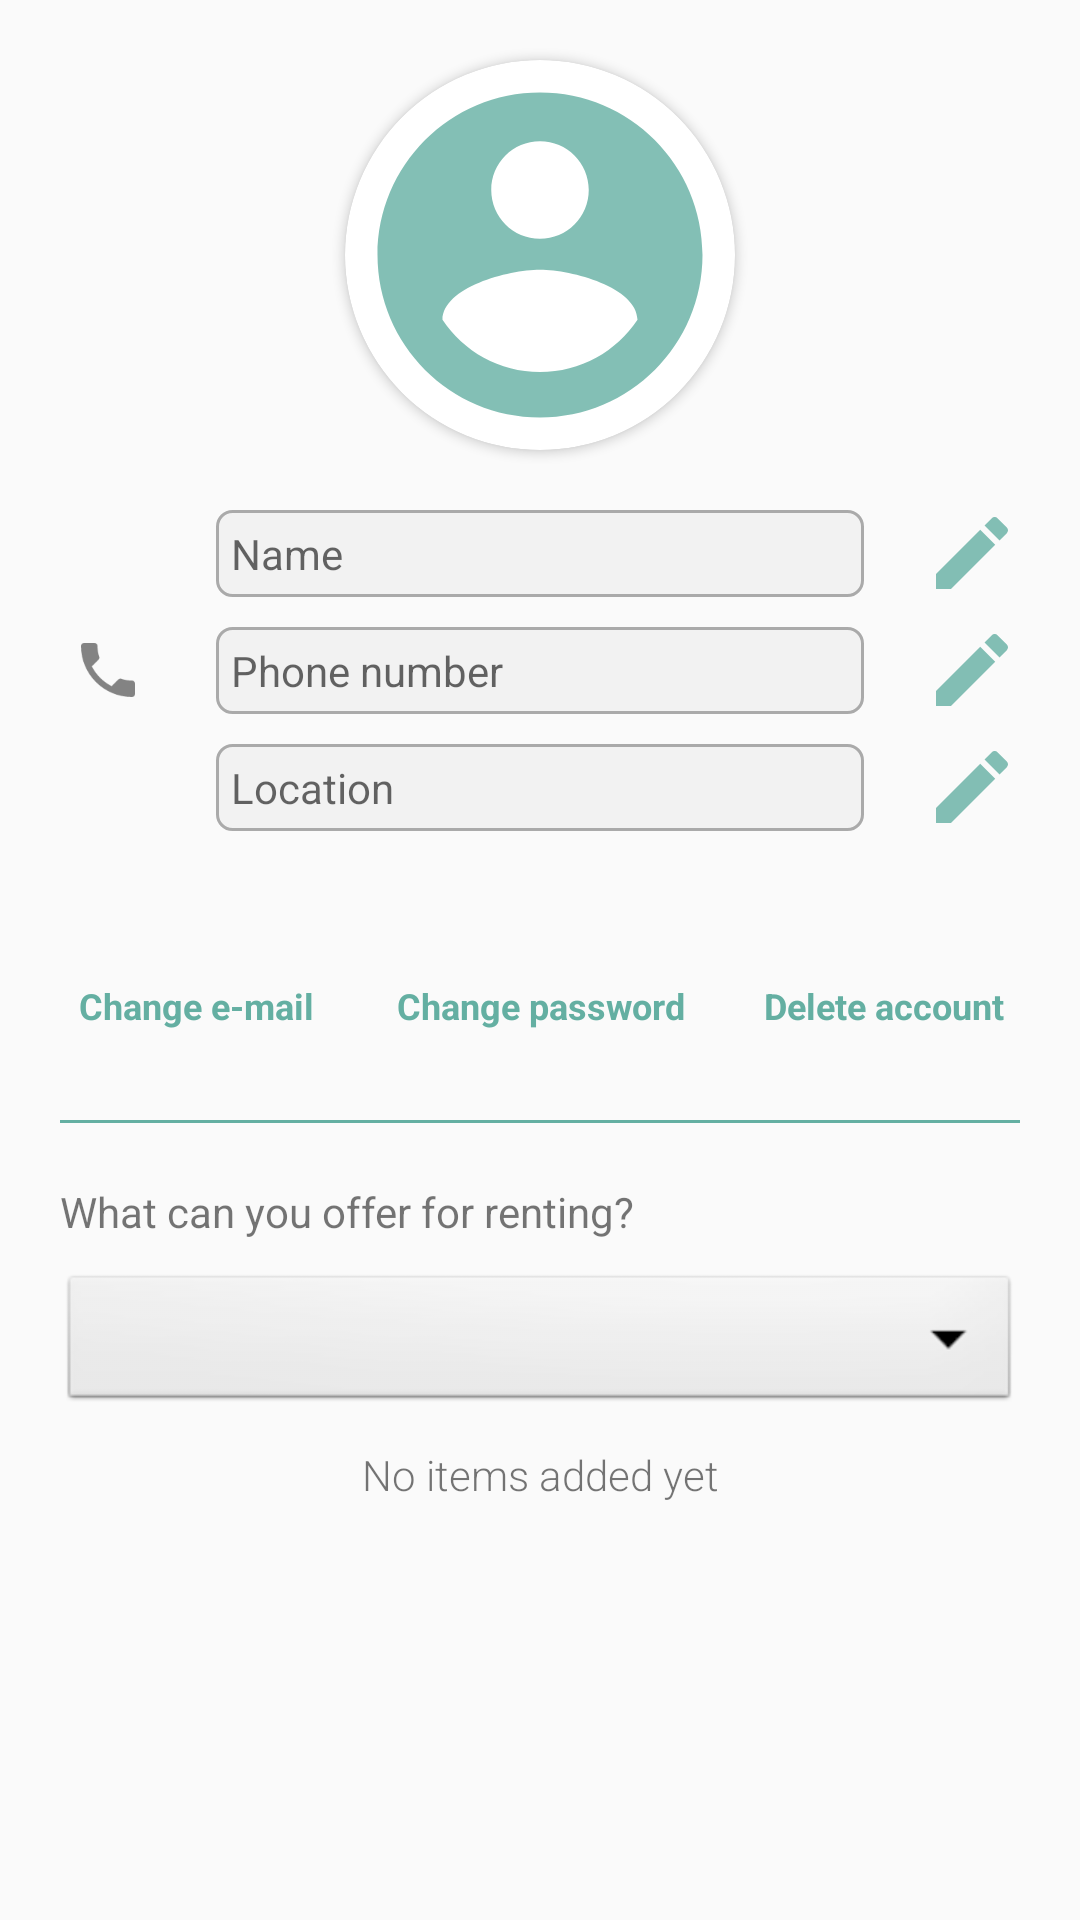

Icons on this 1080px x 1920px Android screen, each with its box as [left=x1, top=y1, right=x2, bottom=y2]:
Phone Symbol: [left=81, top=643, right=135, bottom=697]
